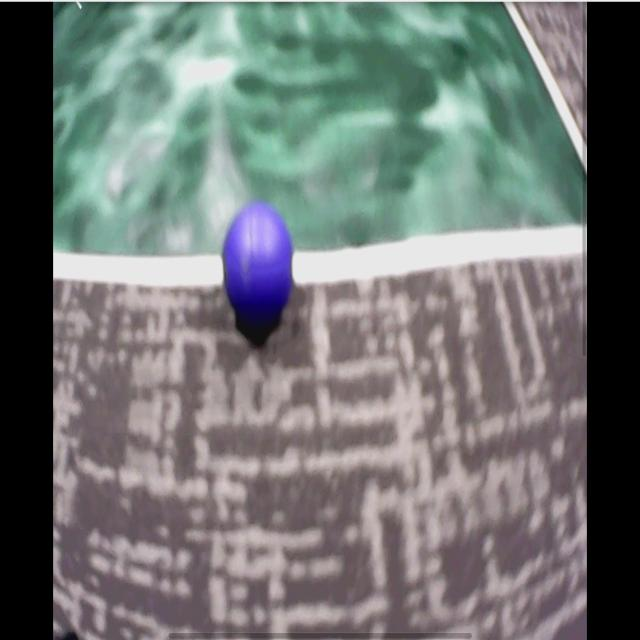ball: (224, 203, 293, 318)
